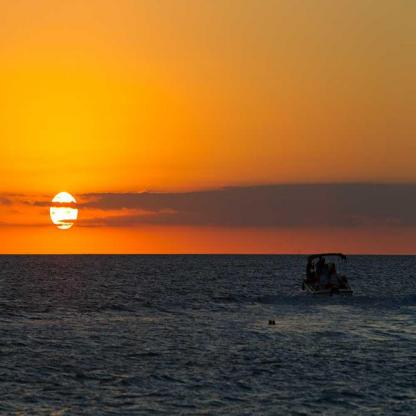other: (13, 161, 120, 245)
